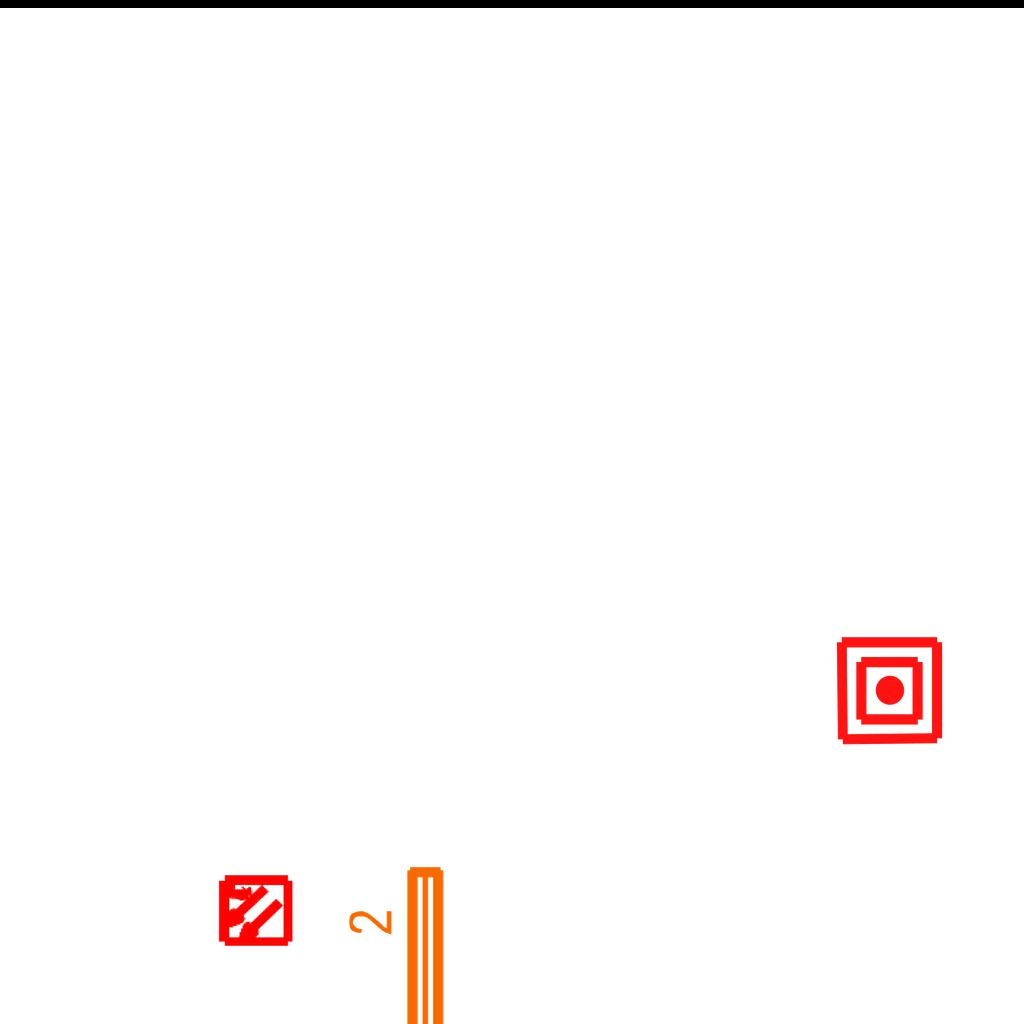Ambulanz_Pendelleuchte_LED: (344, 858, 456, 1024)
NAM-Nichtautomatischer_Melder: (833, 634, 946, 747)
OT_Multisensormelder_(Kombination_RMO_WMD): (197, 854, 310, 967)
